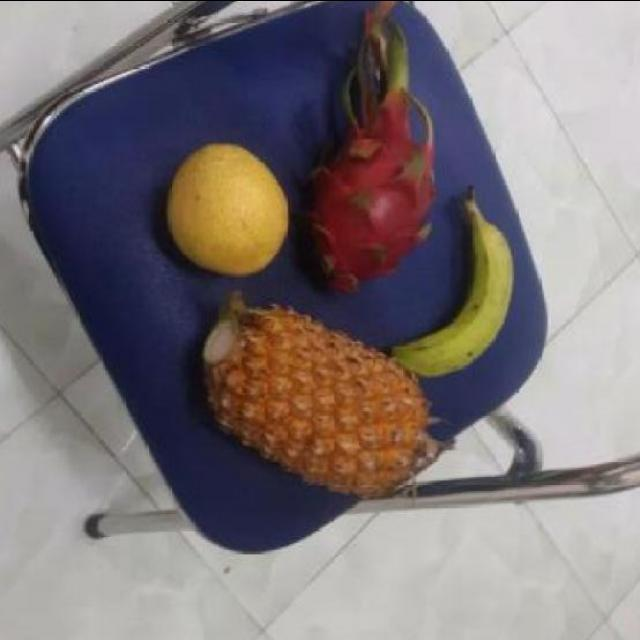banana: (394, 203, 516, 385)
dragon fruit: (298, 81, 434, 301)
pear: (162, 137, 286, 280)
pineapple: (201, 289, 429, 501)
